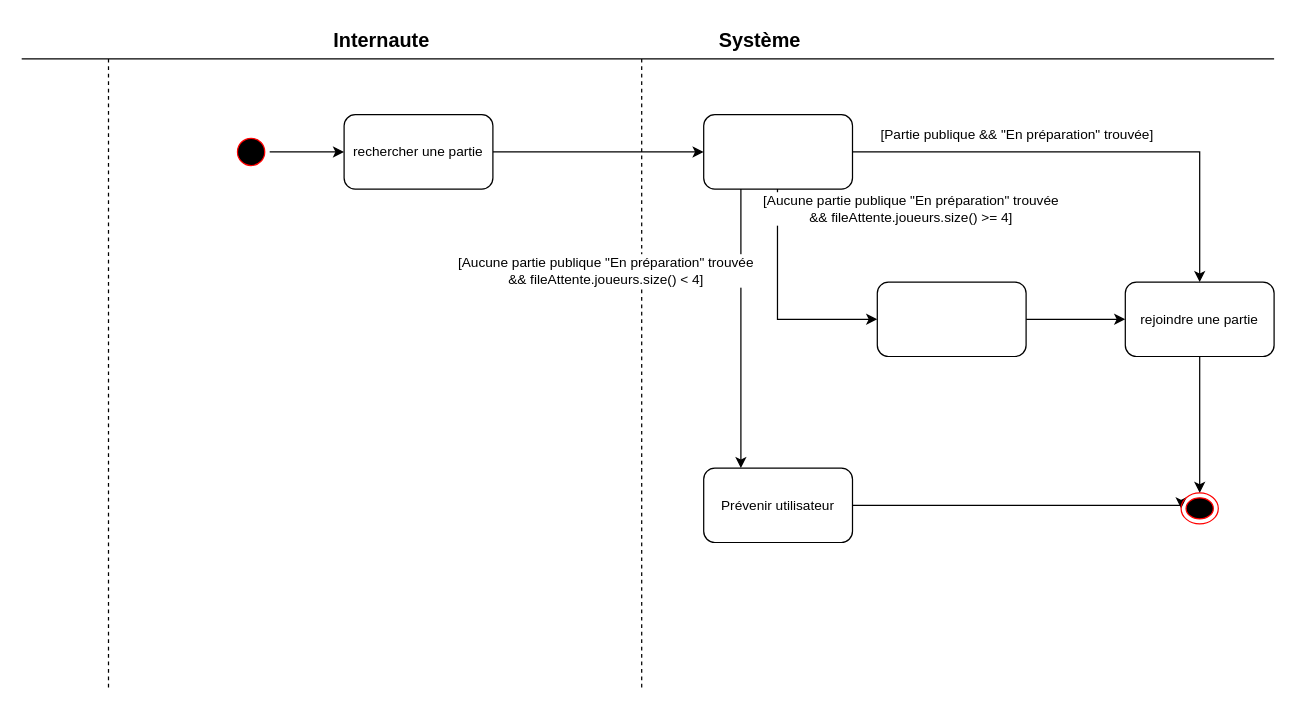
Image size: 1297x714. Some labels were removed from this diagram. The box of each missing label's shape, as (x1, y1, x2, y2) in pixels:
Créer partie publique automatique: (876, 281, 1026, 356)
rechercher une partie publique valide: (702, 113, 852, 189)
